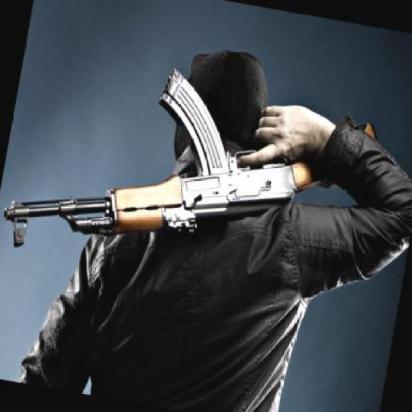Gun: (0, 37, 382, 311)
